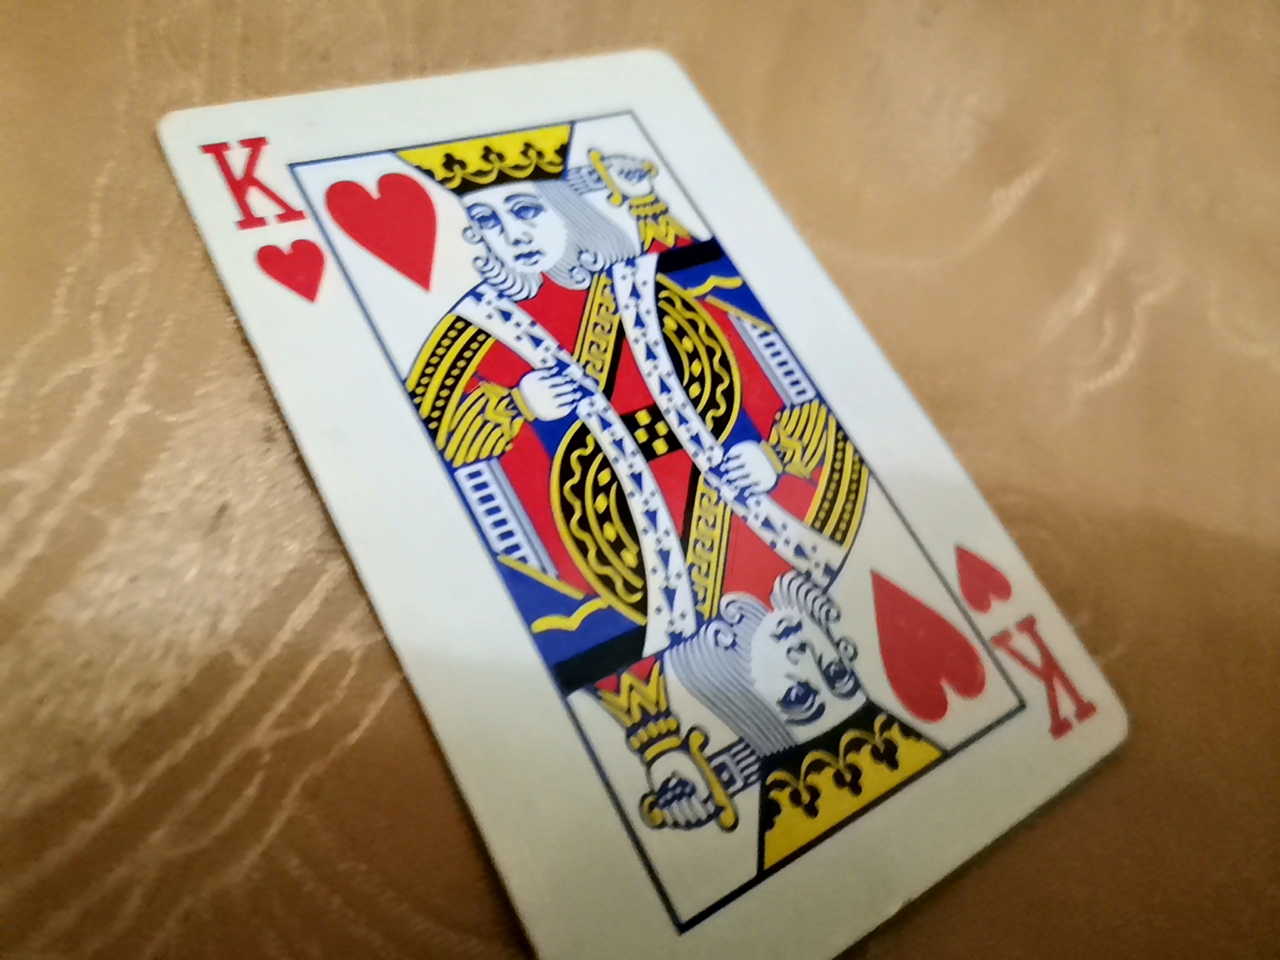hx k: (132, 31, 1109, 805)
